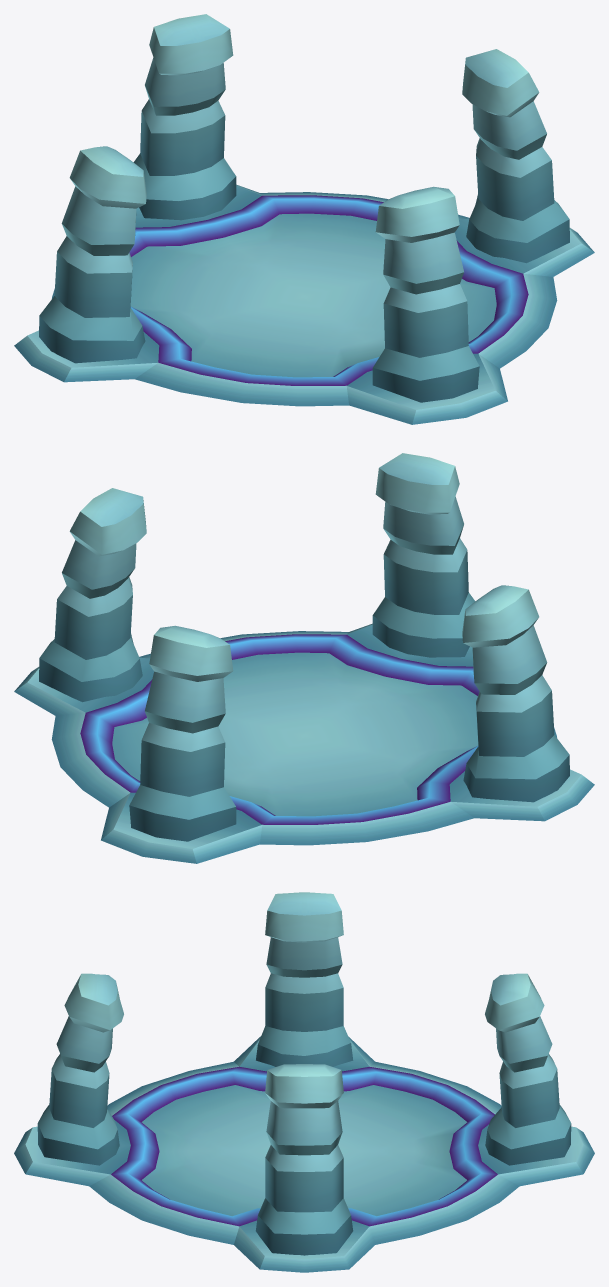
The model's file is env_Portal_Plartform_v01.fbx.
3 views of the same model, one above another, from view 1: azimuth 30°, elevation 25°; view 2: azimuth 150°, elevation 25°; view 3: azimuth 270°, elevation 25° (orthographic). The views are drawn at different scales.
Visible parts, largest first — view 1: Statues_x4, Portal_Platform; view 2: Statues_x4, Portal_Platform; view 3: Portal_Platform, Statues_x4.
Boxes of the visible parts, x1=… form: Statues_x4: x1=39, y1=14, x2=569, y2=402; Portal_Platform: x1=14, y1=184, x2=594, y2=424; Statues_x4: x1=39, y1=453, x2=569, y2=841; Portal_Platform: x1=14, y1=623, x2=594, y2=863; Portal_Platform: x1=14, y1=1036, x2=594, y2=1272; Statues_x4: x1=37, y1=892, x2=571, y2=1255.
Bounding box in the file's own units: 902 × 305 × 927.
